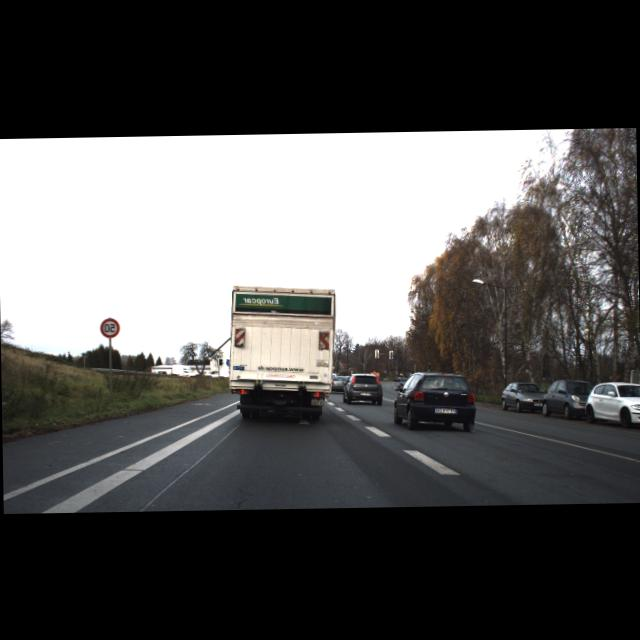prohibitory: (100, 316, 120, 337)
